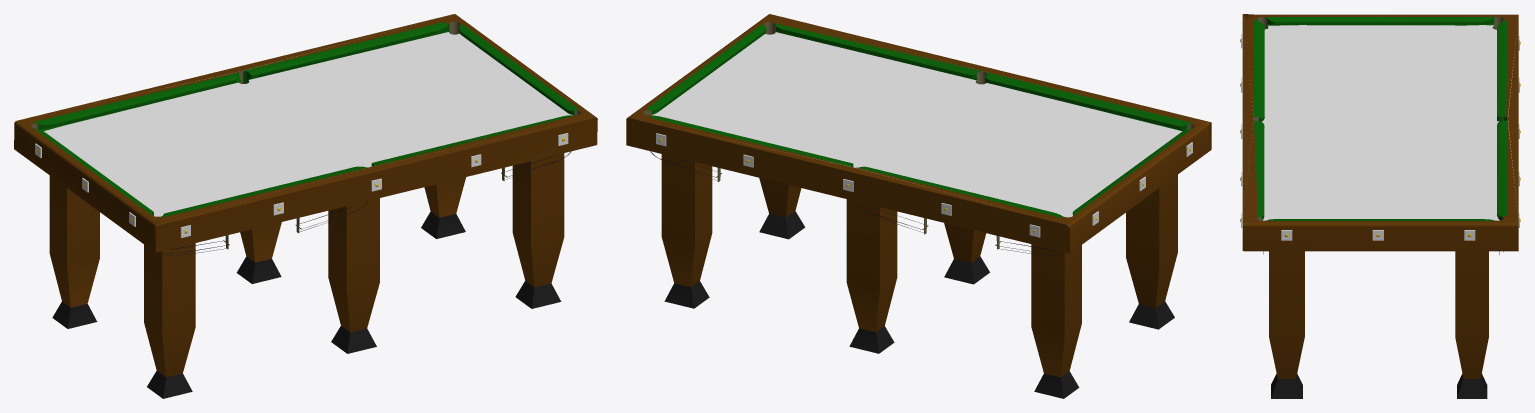
Rendered from Snooker Table.fbx.
3 renders of one model, left to right at view 1: azimuth 30°, elevation 25°; view 2: azimuth 150°, elevation 25°; view 3: azimuth 270°, elevation 25°, orthographic. The views are drawn at different scales.
Visible parts, largest first — view 1: Snooker Table; view 2: Snooker Table; view 3: Snooker Table.
Boxes of the visible parts, <box> form: Snooker Table: <box>14,14,597,398</box>; Snooker Table: <box>626,14,1211,398</box>; Snooker Table: <box>1240,14,1520,398</box>.
Bounding box in the file's own units: 384 × 156 × 214.
